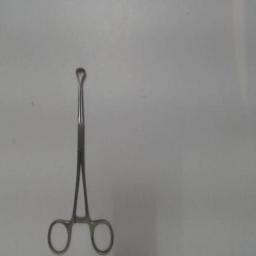Babcock Tissue Forceps: (46, 60, 116, 256)
